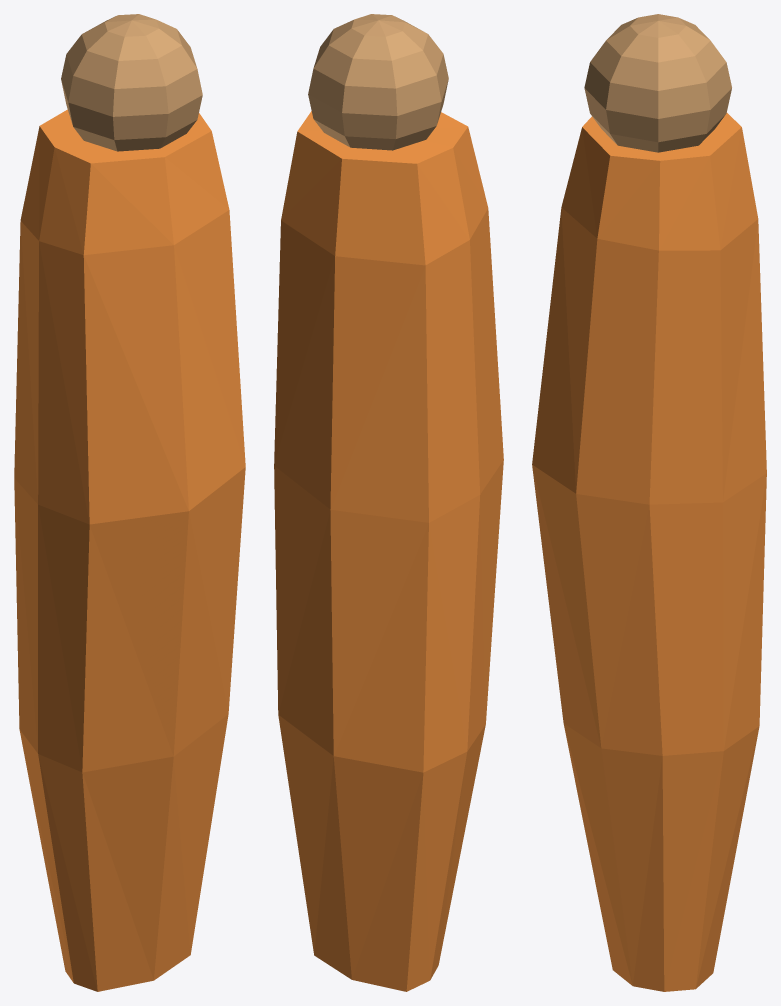
File: right_lower_leg.obj
The picture shows the model from 3 angles, left to right: view 1: azimuth 30°, elevation 25°; view 2: azimuth 150°, elevation 25°; view 3: azimuth 270°, elevation 25°; orthographic projection.
Visible parts, largest first — view 1: Right_Lower_leg.001_Cube.019; view 2: Right_Lower_leg.001_Cube.019; view 3: Right_Lower_leg.001_Cube.019.
Boxes of the visible parts, x1,y1,x2,y2 form: Right_Lower_leg.001_Cube.019: (14, 14, 245, 991); Right_Lower_leg.001_Cube.019: (274, 14, 503, 991); Right_Lower_leg.001_Cube.019: (532, 14, 766, 991).
Size of the model in its own units: 0.2188 by 1.08 by 0.2398.
